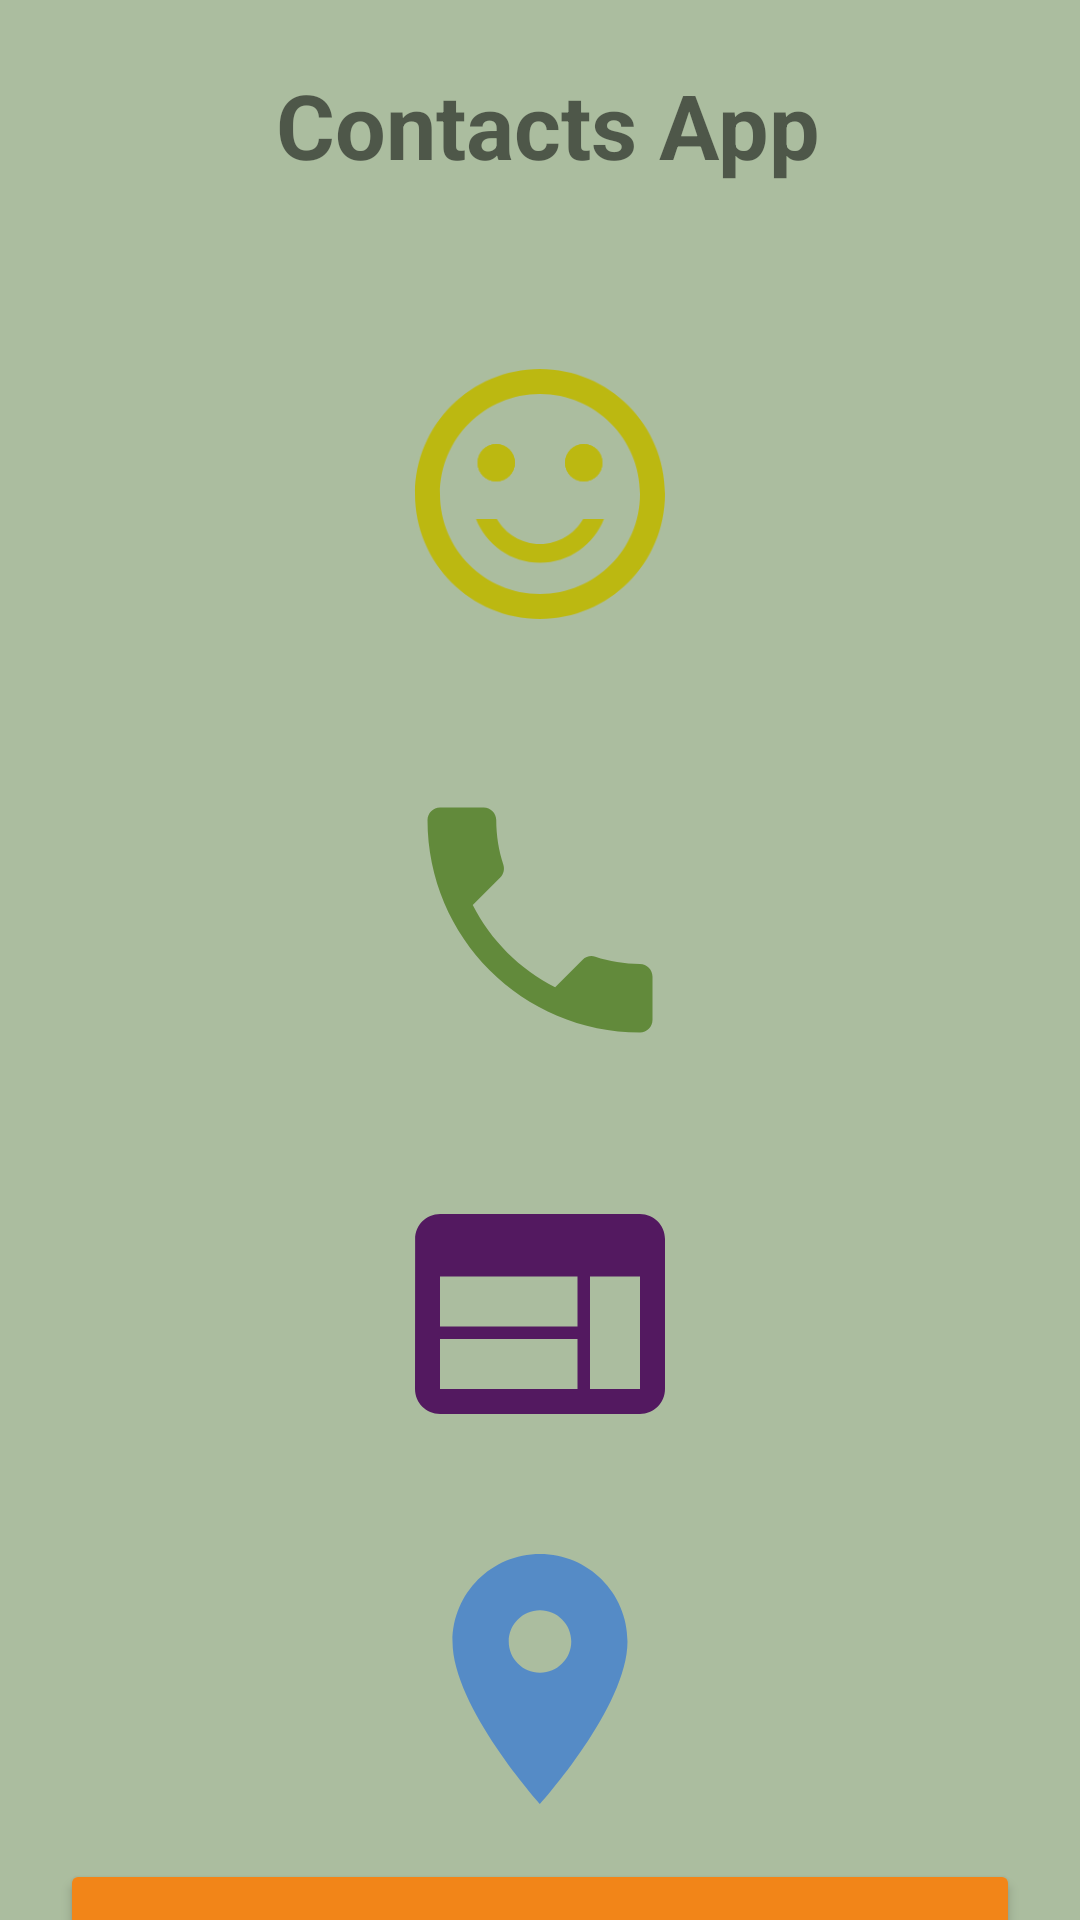

Named icons in this screenshot (1080×1920) and their centers, (x,y):
happy: (540,494)
location: (540,1679)
phone: (540,920)
webpage: (540,1314)
